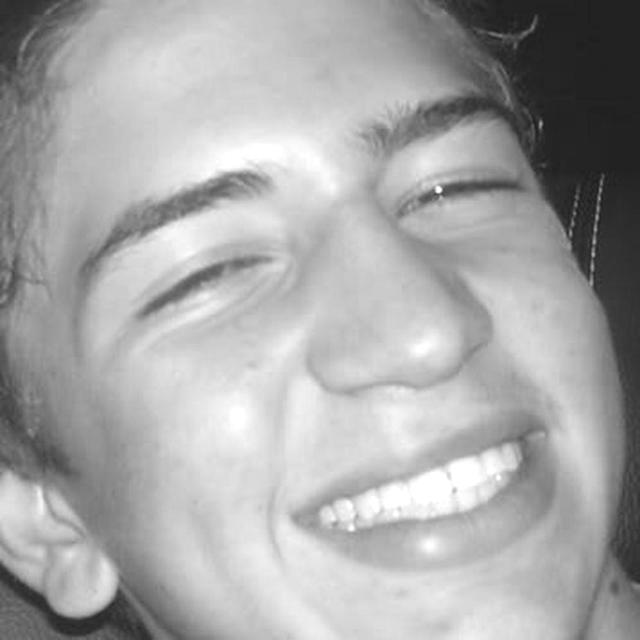real: (0, 4, 629, 640), (105, 113, 529, 322)
